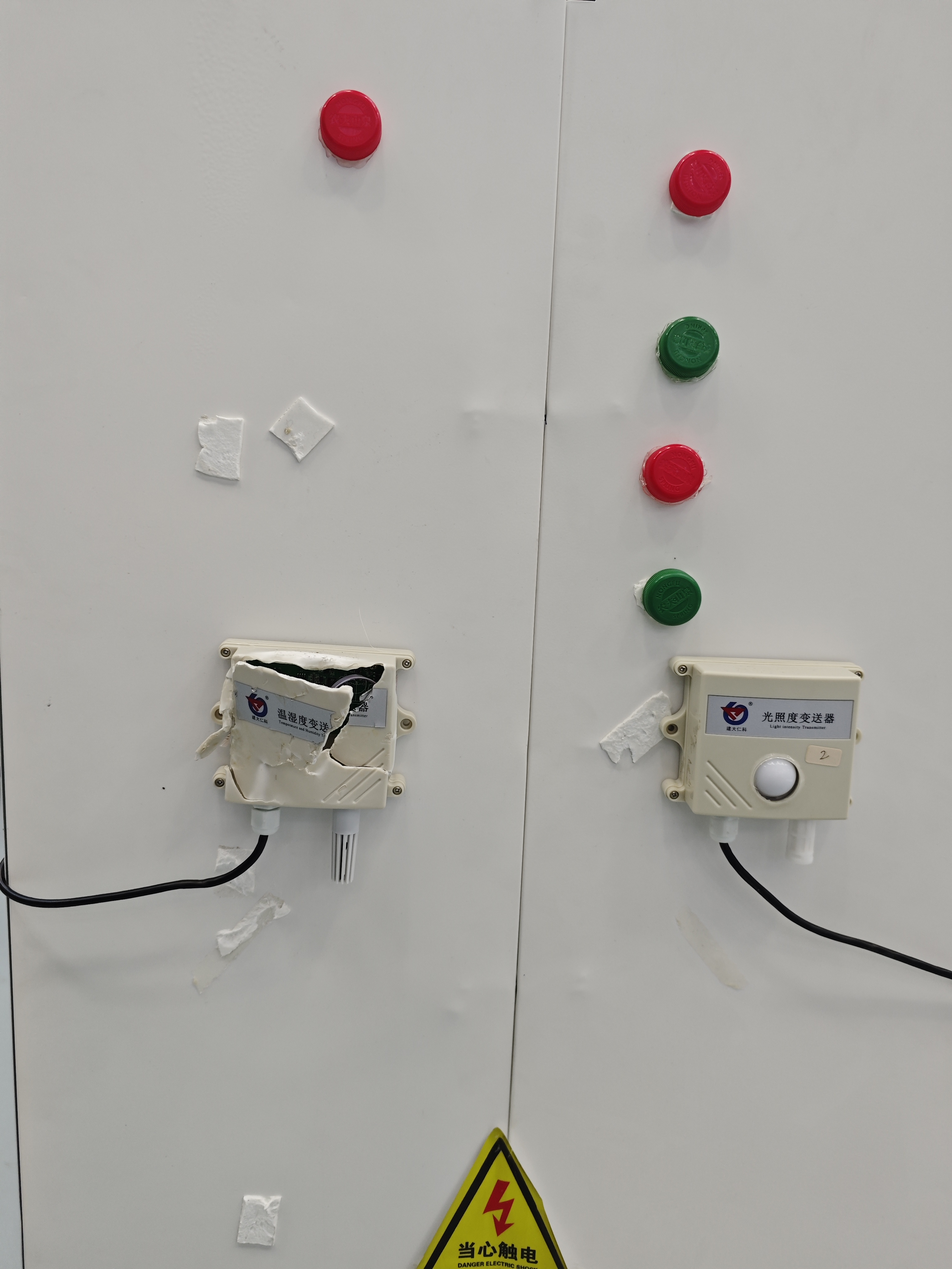red_warning: (632, 125, 762, 232), (306, 70, 417, 159), (632, 414, 722, 519)
sensor_damage: (176, 612, 452, 886)
